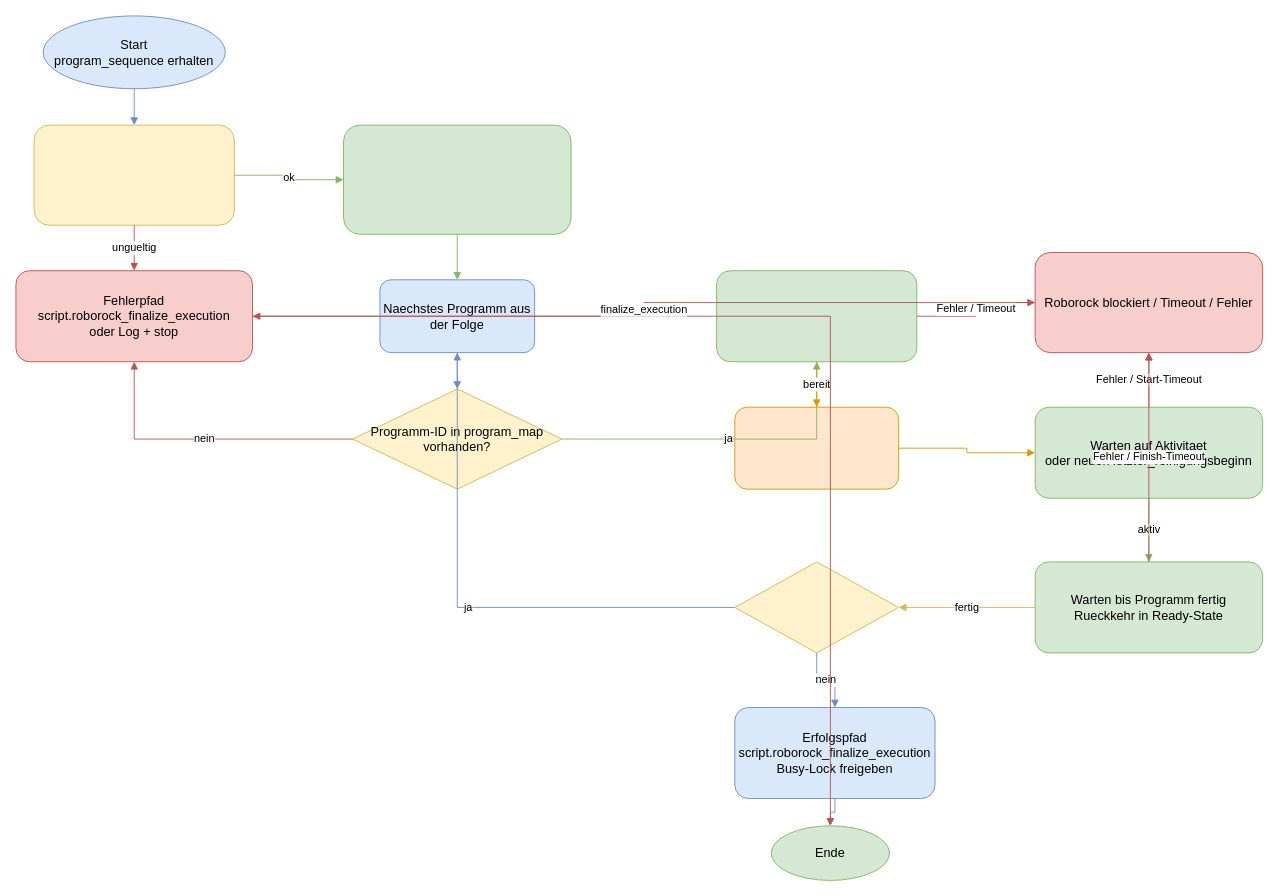
Image size: 1279x896. Some labels were removed from this diagram. The centre of each missing label's shape, as x and y in pixels:
Auf Ready-State warten + 20s Stabilisierung: the point at 816,316
Busy-Lock setzen busy = on busy_since = now Diagnose-Helfer schreiben: the point at 457,179
button.press auf echten Roborock-Button: the point at 816,447
Vorpruefung - blocked? - busy schon aktiv? - Liste leer?: the point at 133,174
Weitere Programme offen?: the point at 816,607
